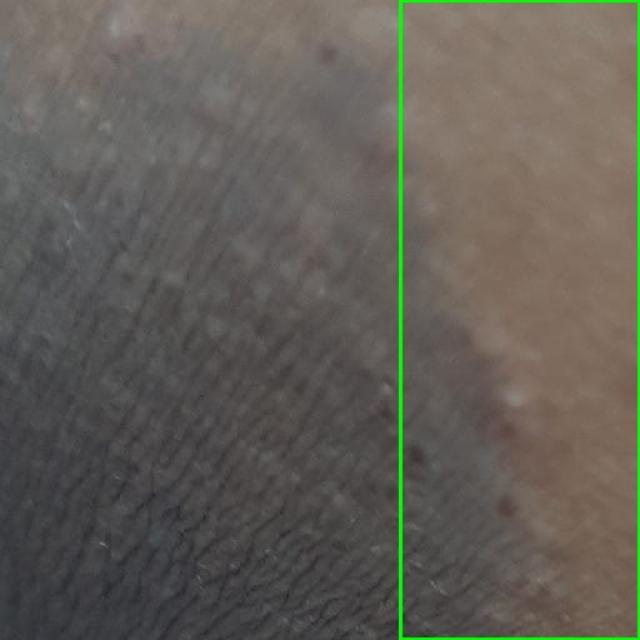Tinea Corporis: (400, 0, 639, 639)
